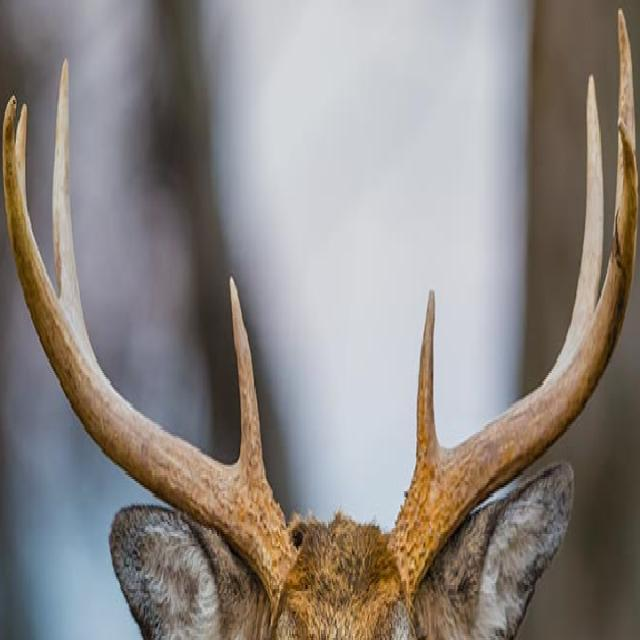L-F: (391, 119, 638, 595)
L-G1: (414, 287, 441, 475)
L-G2: (550, 73, 604, 377)
R-F: (2, 93, 294, 617)
R-G1: (229, 273, 268, 487)
R-G2: (52, 60, 98, 365)
